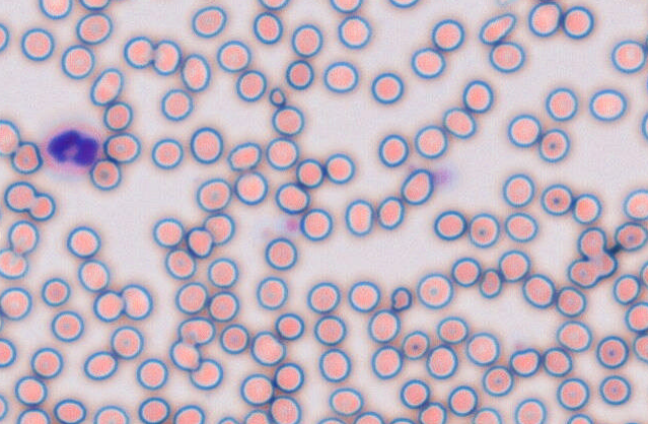GRAN: (42, 120, 105, 176)
PLT: (283, 215, 303, 233)
RBC: (416, 272, 453, 309), (89, 67, 123, 106), (527, 0, 562, 37), (189, 126, 223, 164), (588, 88, 627, 121), (250, 330, 285, 366), (478, 12, 516, 45), (60, 44, 95, 79), (196, 177, 231, 212), (233, 170, 268, 205), (413, 124, 448, 159), (610, 39, 646, 73), (120, 283, 153, 320), (75, 11, 112, 44), (103, 132, 141, 164), (521, 273, 555, 308), (337, 15, 372, 49), (465, 331, 499, 366), (544, 86, 578, 121), (556, 319, 592, 352), (400, 168, 433, 204), (467, 212, 500, 248), (322, 60, 358, 93), (180, 53, 210, 92), (20, 27, 54, 61), (110, 325, 144, 359), (507, 113, 541, 147), (66, 225, 101, 258), (216, 39, 251, 72), (367, 308, 400, 343), (191, 5, 226, 38), (425, 344, 458, 379), (489, 41, 525, 73), (344, 198, 374, 236), (10, 140, 43, 174), (561, 5, 594, 39), (174, 281, 208, 314), (239, 373, 273, 406), (318, 348, 351, 382), (370, 345, 403, 379), (264, 236, 297, 270), (595, 335, 628, 369), (265, 136, 298, 170), (255, 275, 288, 309), (299, 207, 332, 241), (7, 219, 39, 254), (538, 127, 570, 162), (274, 182, 309, 214), (502, 172, 534, 207), (177, 316, 215, 345), (77, 259, 110, 292), (160, 88, 193, 121), (135, 357, 168, 390), (431, 18, 464, 51), (556, 377, 589, 410), (370, 71, 403, 104), (0, 286, 32, 320), (189, 358, 223, 390), (442, 106, 476, 138), (291, 23, 323, 57), (50, 310, 84, 342), (306, 281, 340, 313), (410, 47, 445, 78), (3, 180, 36, 212), (92, 289, 124, 322), (203, 212, 235, 245), (540, 183, 573, 215), (30, 346, 63, 378), (271, 104, 304, 136), (347, 280, 380, 312), (462, 79, 493, 113), (504, 211, 538, 242), (377, 133, 408, 167), (328, 386, 363, 416), (227, 141, 262, 171), (152, 39, 181, 75), (89, 158, 121, 190), (498, 249, 530, 281), (151, 137, 183, 169), (123, 35, 154, 68), (14, 375, 47, 406), (252, 11, 283, 44), (598, 374, 631, 405), (433, 209, 466, 240), (313, 314, 346, 345), (83, 350, 117, 380), (567, 257, 599, 288), (576, 226, 607, 258), (169, 339, 200, 371), (164, 248, 196, 279), (555, 285, 586, 317), (152, 217, 184, 248), (235, 69, 266, 101), (481, 365, 513, 396), (324, 152, 355, 184), (614, 221, 647, 251), (102, 100, 133, 131), (208, 290, 239, 321), (207, 257, 238, 288), (611, 273, 641, 305), (572, 192, 602, 224), (447, 384, 477, 416), (376, 195, 404, 229), (399, 378, 430, 408), (541, 346, 572, 376), (273, 362, 304, 392), (450, 256, 481, 286), (219, 323, 249, 354), (436, 315, 468, 344), (40, 276, 70, 306), (285, 59, 314, 90), (185, 226, 213, 258), (269, 395, 301, 423), (137, 396, 170, 423), (295, 158, 324, 188), (0, 248, 28, 279), (513, 397, 546, 423), (401, 329, 429, 359), (274, 312, 304, 340), (53, 398, 86, 423), (28, 191, 55, 221), (622, 188, 647, 220), (590, 251, 617, 278), (0, 119, 20, 155), (624, 301, 647, 332), (92, 404, 129, 423), (38, 0, 72, 19), (417, 401, 446, 423), (172, 404, 205, 423), (16, 407, 50, 423), (471, 406, 502, 423), (0, 337, 16, 367), (632, 333, 647, 363), (329, 0, 362, 13), (242, 408, 270, 423), (352, 410, 384, 423), (78, 0, 110, 11), (257, 0, 290, 10), (565, 413, 593, 423), (0, 22, 9, 52), (388, 0, 419, 8), (640, 110, 647, 141), (0, 393, 8, 420), (639, 260, 647, 287), (316, 416, 345, 423), (388, 416, 416, 423), (216, 415, 239, 423), (494, 0, 518, 7), (0, 313, 4, 332), (645, 71, 648, 95)
Schistocyte: (509, 349, 540, 377), (479, 269, 502, 299), (391, 285, 411, 312), (269, 86, 287, 106)
